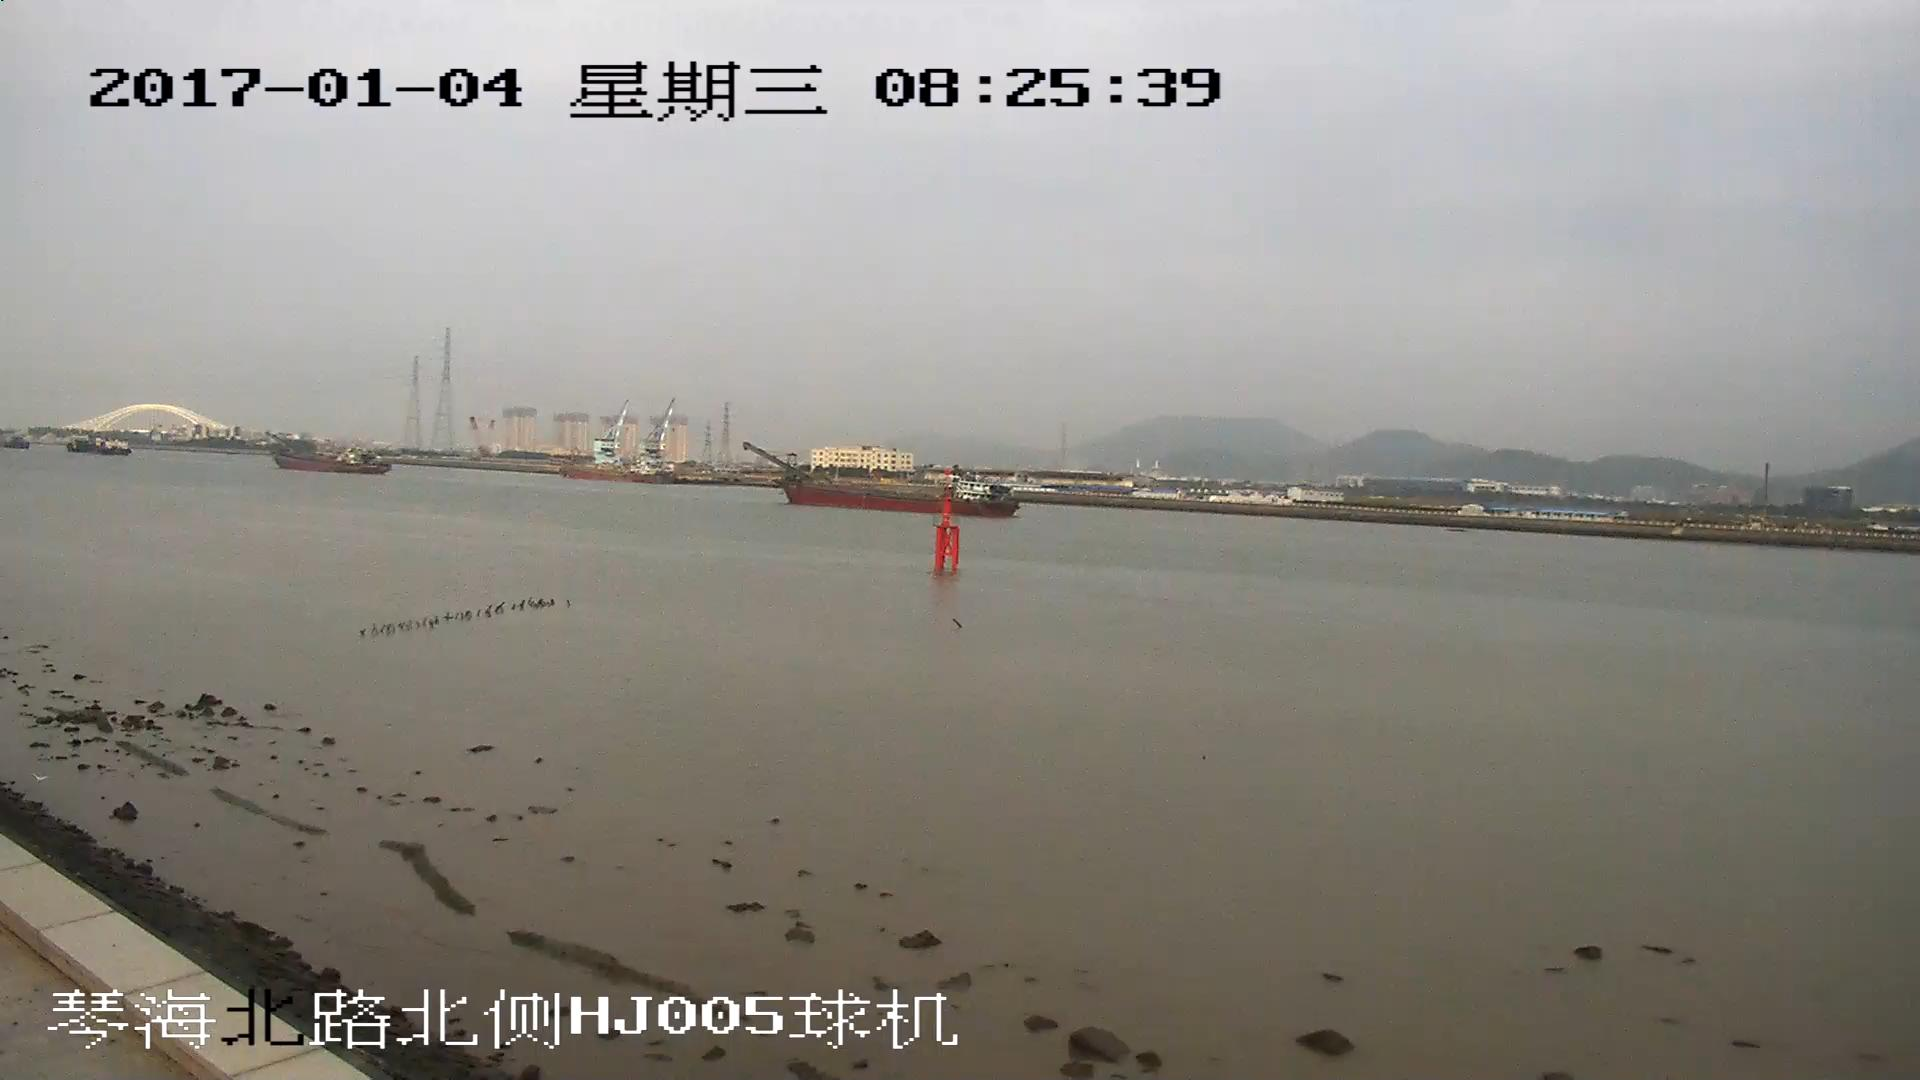bulk cargo carrier: (747, 440, 1016, 517), (264, 437, 386, 477)
